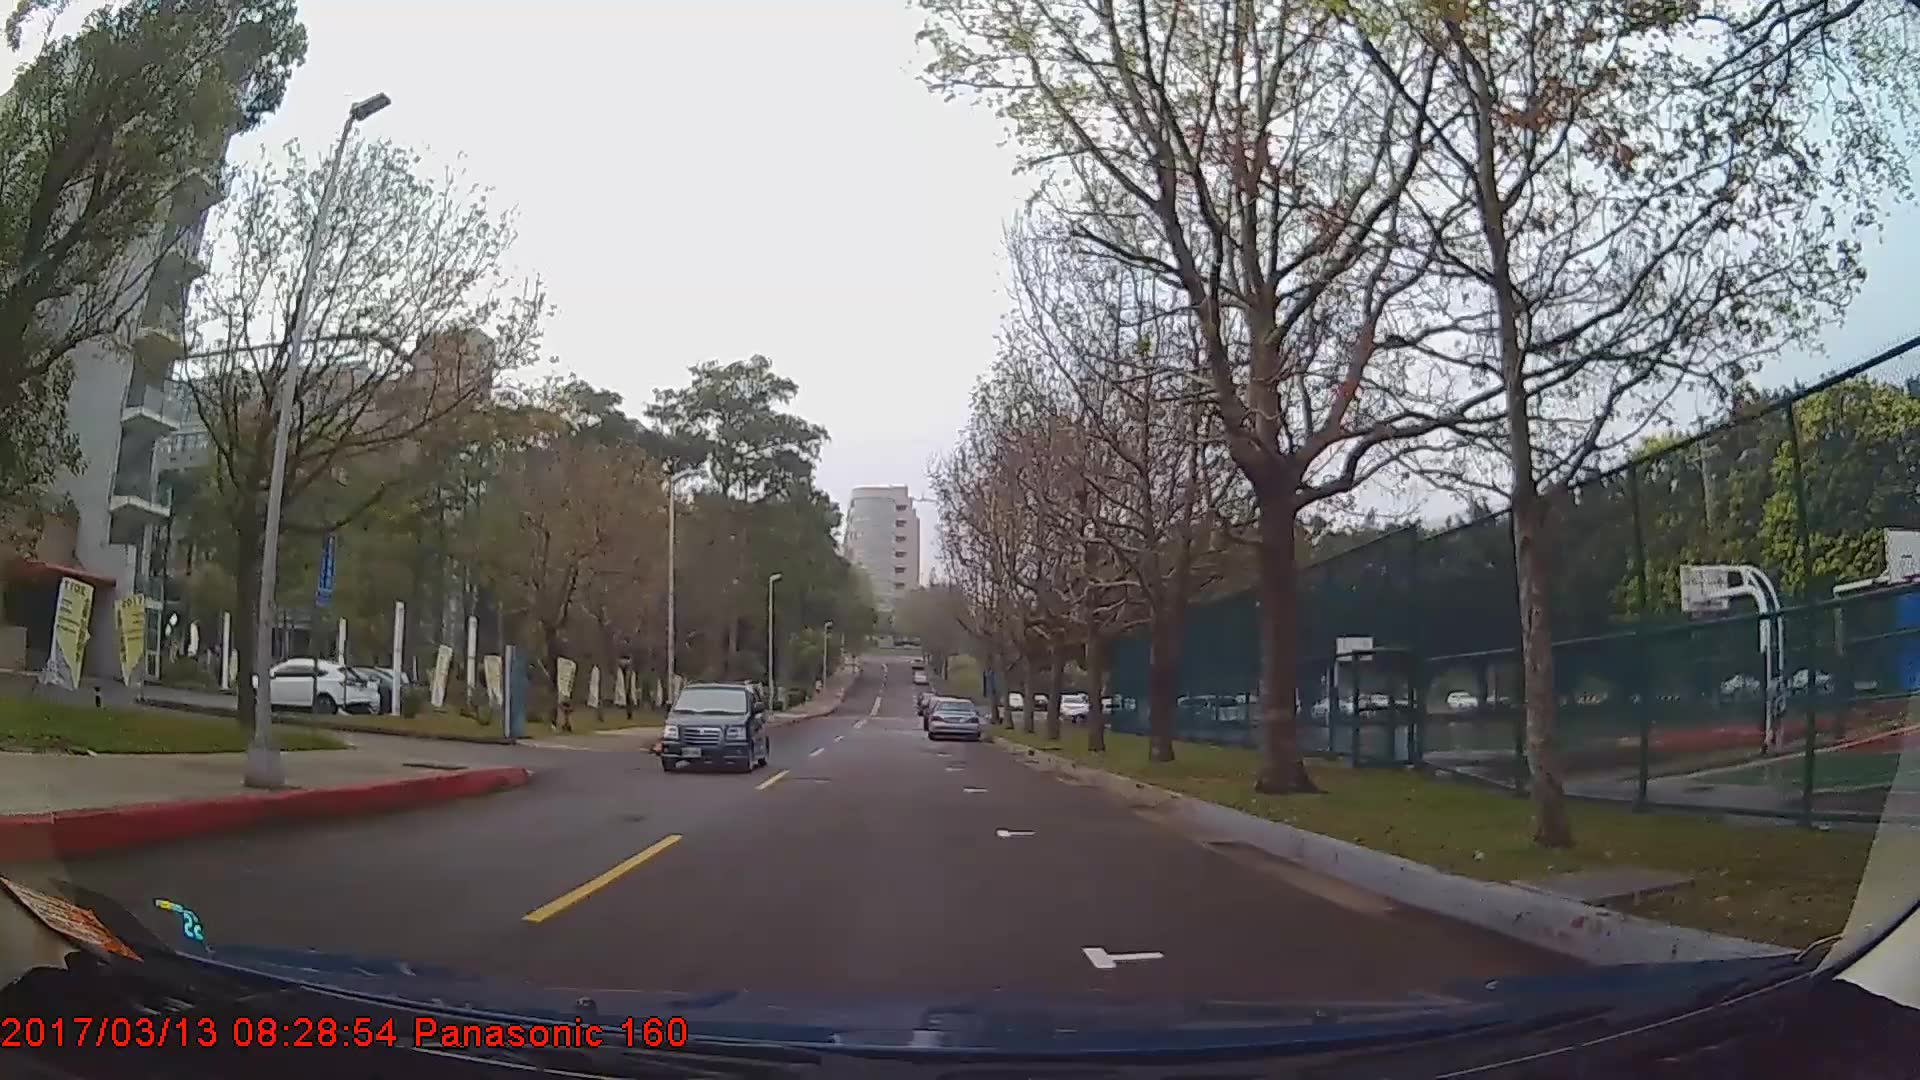vehicle: (658, 678, 771, 774), (251, 658, 371, 717), (926, 696, 980, 742)
